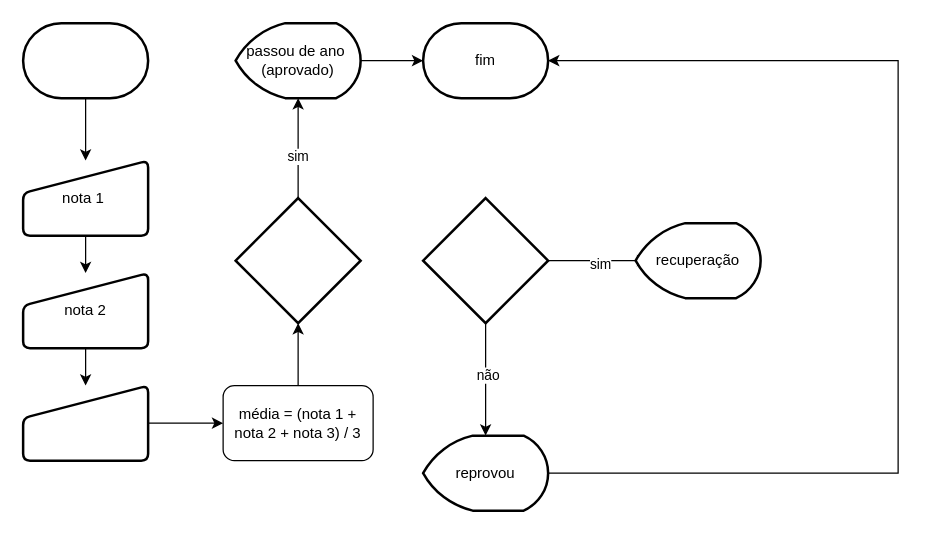
Image size: 930x533. Some labels were removed from this diagram. The shapes that lost their labels are listed below. From the top down, each one's box as (x1, y1, x2, y2) in pixels, then its label:
(21, 21, 149, 99): início
(234, 196, 361, 324): média é >=7?
(421, 196, 549, 324): média é >=5 e média <7?
(21, 384, 149, 461): nota 3
